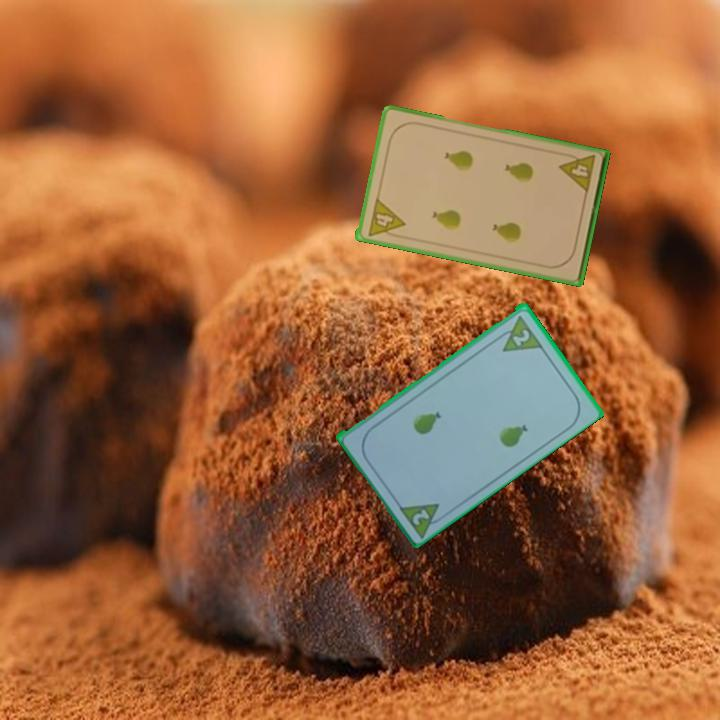2p: (394, 499, 450, 540), (509, 325, 533, 349)
4p: (364, 194, 407, 241), (556, 150, 598, 196)
